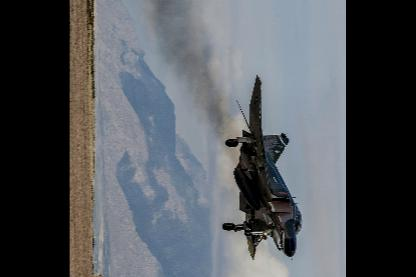F35: (223, 72, 302, 259)
